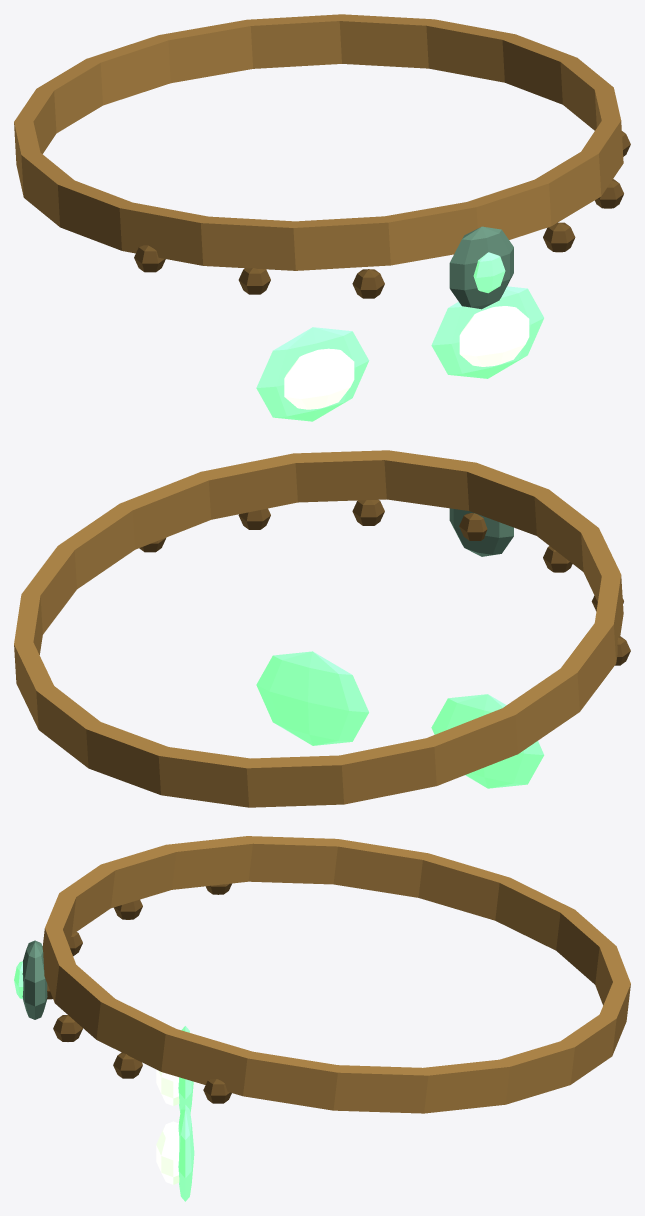
File: barrow_wight_circlet.glb
3 views of the same model, one above another, from view 1: azimuth 30°, elevation 25°; view 2: azimuth 150°, elevation 25°; view 3: azimuth 270°, elevation 25° (orthographic). The views are drawn at different scales.
Parts seen in each view (by area): view 1: barrow_wight_circlet; view 2: barrow_wight_circlet; view 3: barrow_wight_circlet.
Boxes of the visible parts, x1,y1,x2,y2 form: barrow_wight_circlet: (14,14,630,421); barrow_wight_circlet: (14,450,630,807); barrow_wight_circlet: (14,836,630,1201).
Size of the model in its own units: 0.92 by 0.421 by 1.03.
